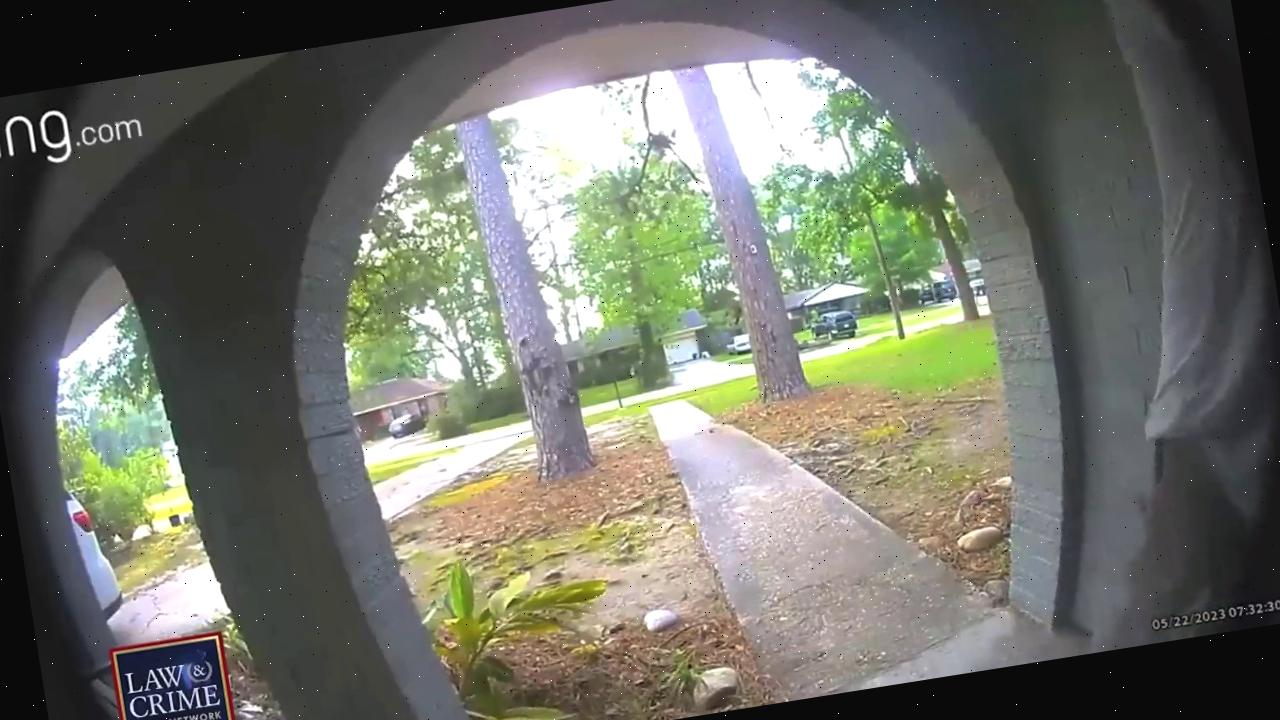suspicion: (988, 0, 1280, 651)
